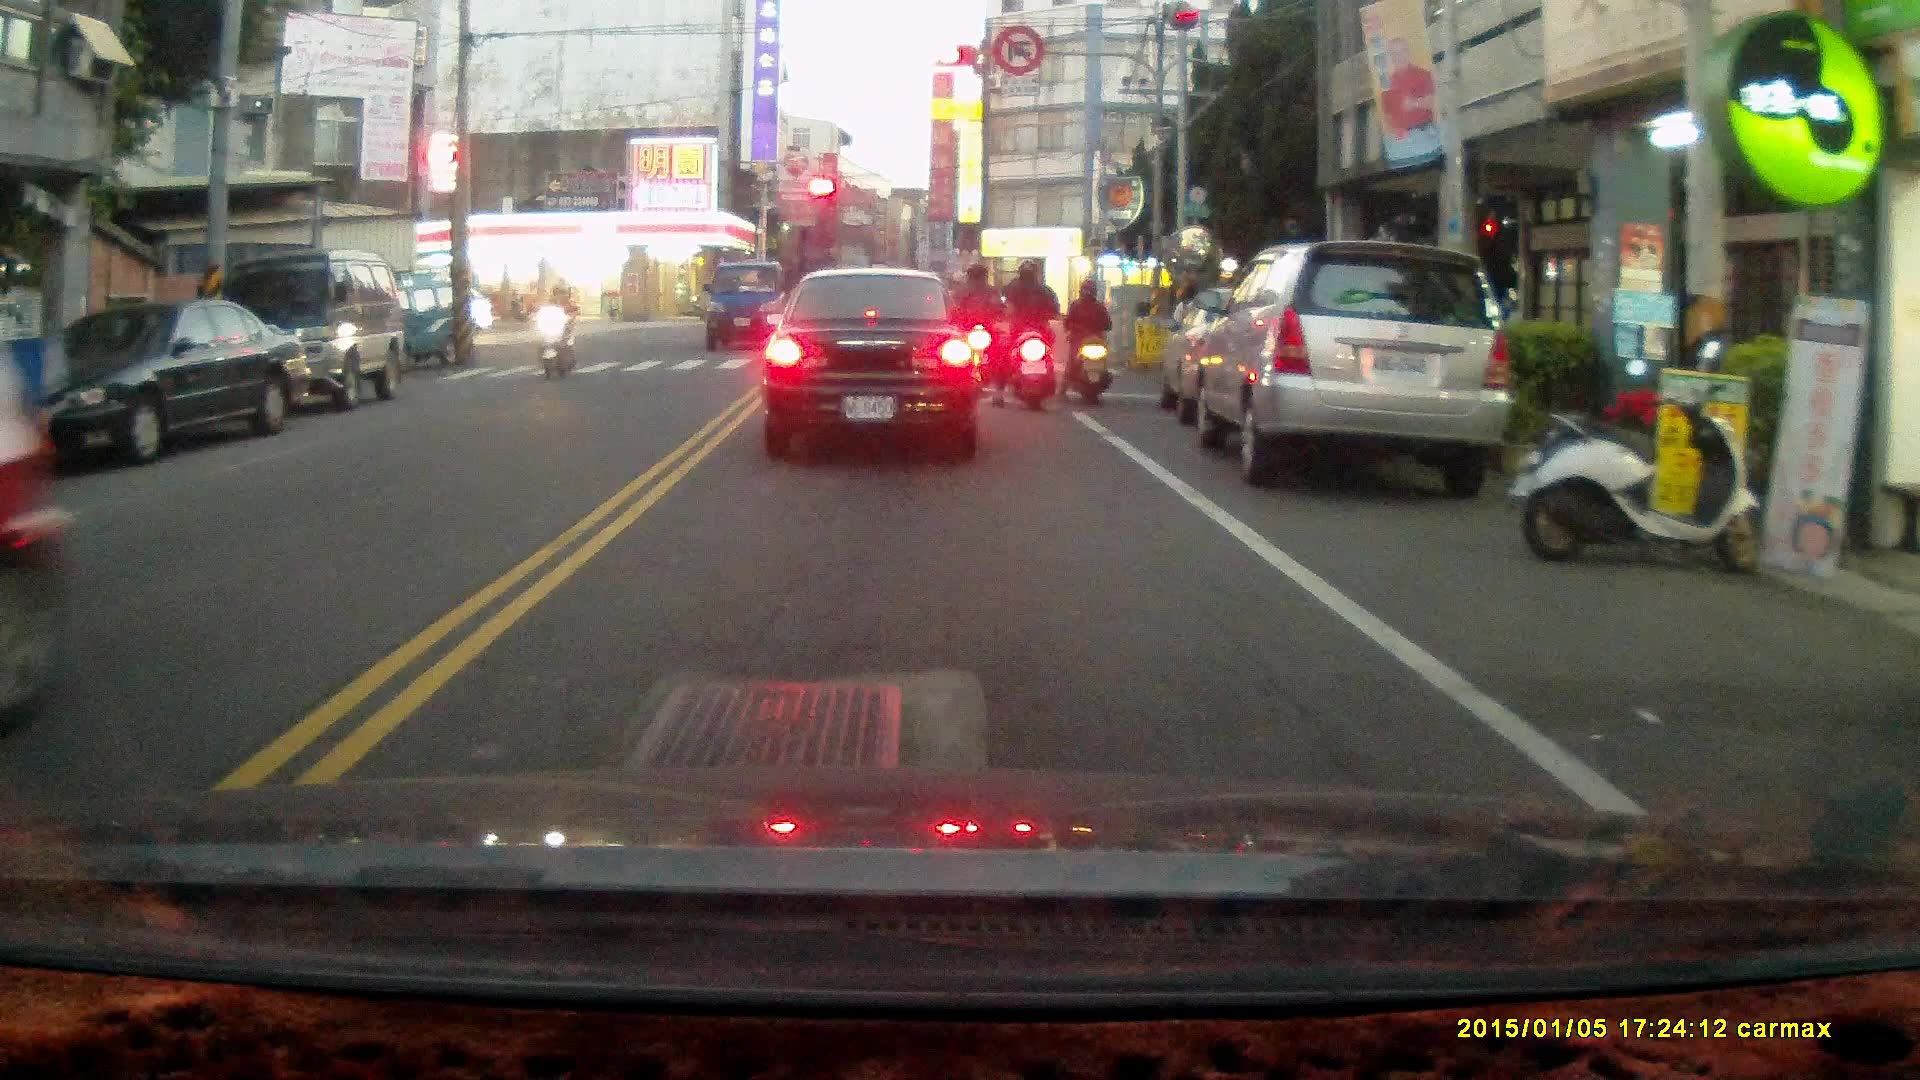rider: (990, 257, 1065, 416), (1058, 275, 1115, 405), (950, 263, 1001, 392), (542, 282, 579, 382)
vehicle: (1181, 241, 1504, 488), (22, 297, 295, 469), (767, 267, 988, 458), (191, 246, 403, 407)
